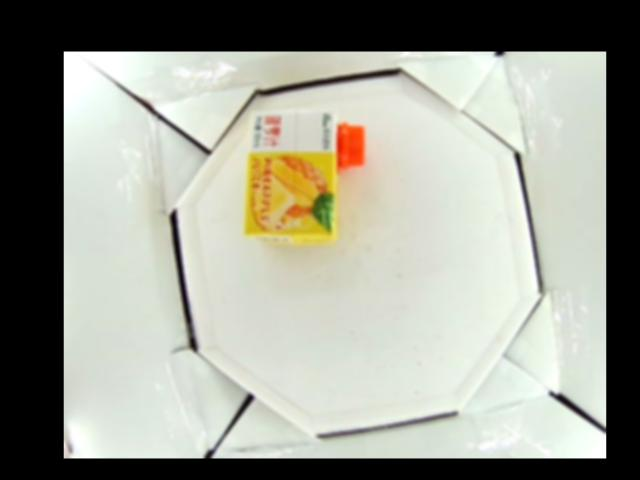Bottle: (241, 106, 367, 242)
